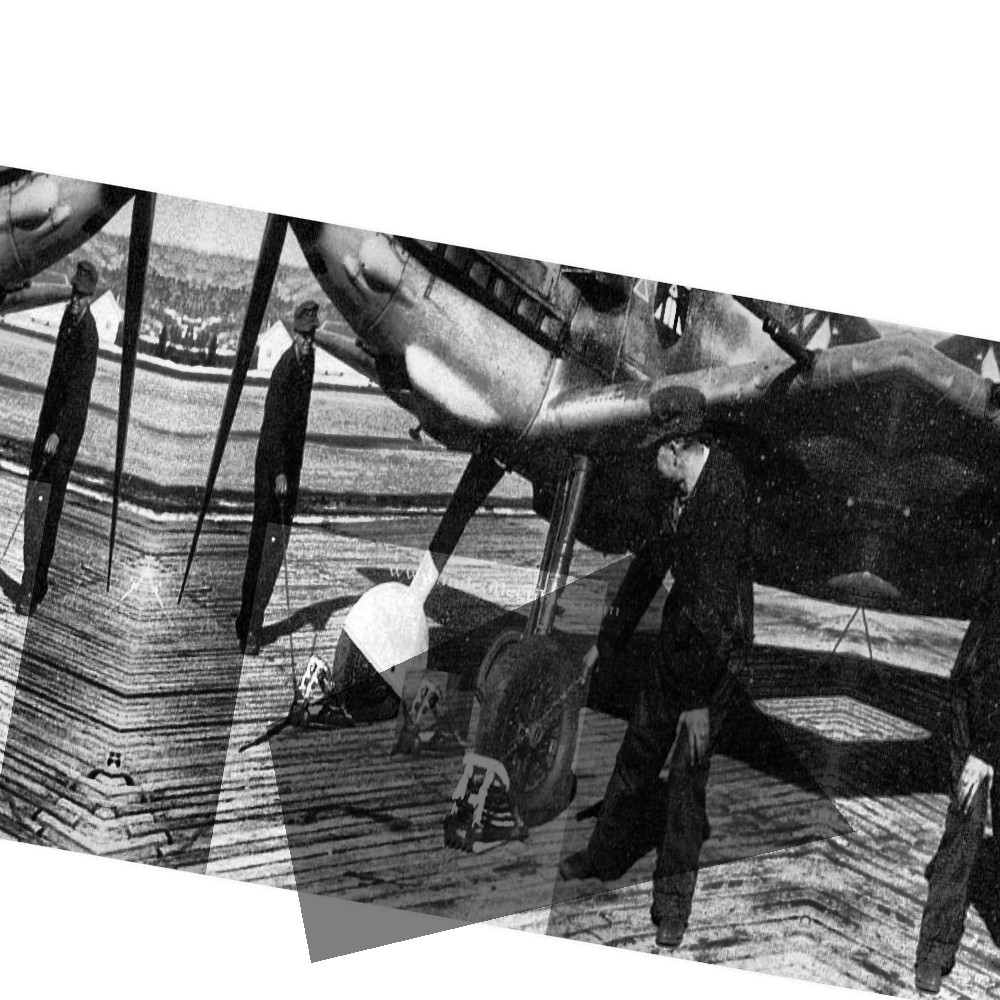chock: (438, 744, 544, 869), (390, 665, 478, 773), (281, 643, 363, 745)
wheel: (450, 620, 600, 833), (320, 563, 442, 730)
